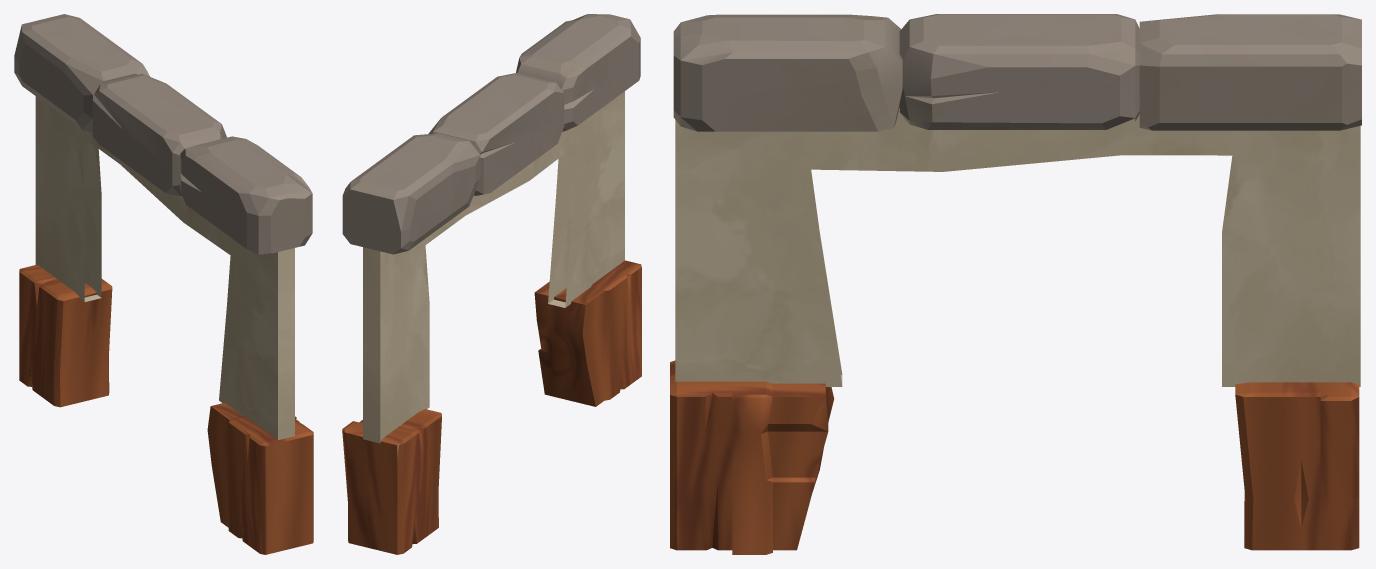
Rendered from SM_WallDoor_01.fbx.
3 renders of one model, left to right at view 1: azimuth 30°, elevation 25°; view 2: azimuth 150°, elevation 25°; view 3: azimuth 270°, elevation 25°, orthographic. The views are drawn at different scales.
Parts seen in each view (by area): view 1: SM_WallDoor_01; view 2: SM_WallDoor_01; view 3: SM_WallDoor_01.
Boxes of the visible parts, left/top/right/bottom form: SM_WallDoor_01: left=14, top=14, right=313, bottom=554; SM_WallDoor_01: left=342, top=14, right=641, bottom=554; SM_WallDoor_01: left=670, top=14, right=1361, bottom=554.
Size of the model in its own units: 71.6 by 369 by 460.
